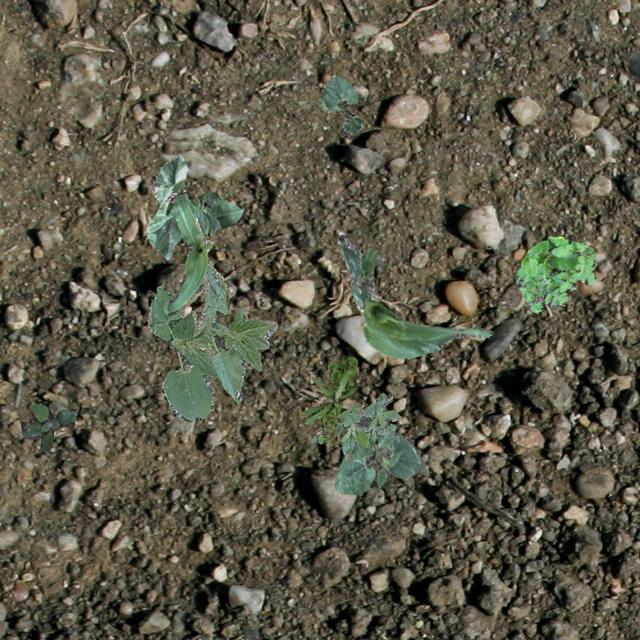crop: (146, 260, 276, 420), (338, 234, 492, 358), (162, 192, 224, 314), (333, 422, 422, 493), (146, 154, 188, 258), (188, 190, 245, 236), (320, 74, 360, 134)
weed: (514, 234, 596, 312), (310, 392, 400, 459), (299, 356, 356, 442), (21, 402, 76, 452)
